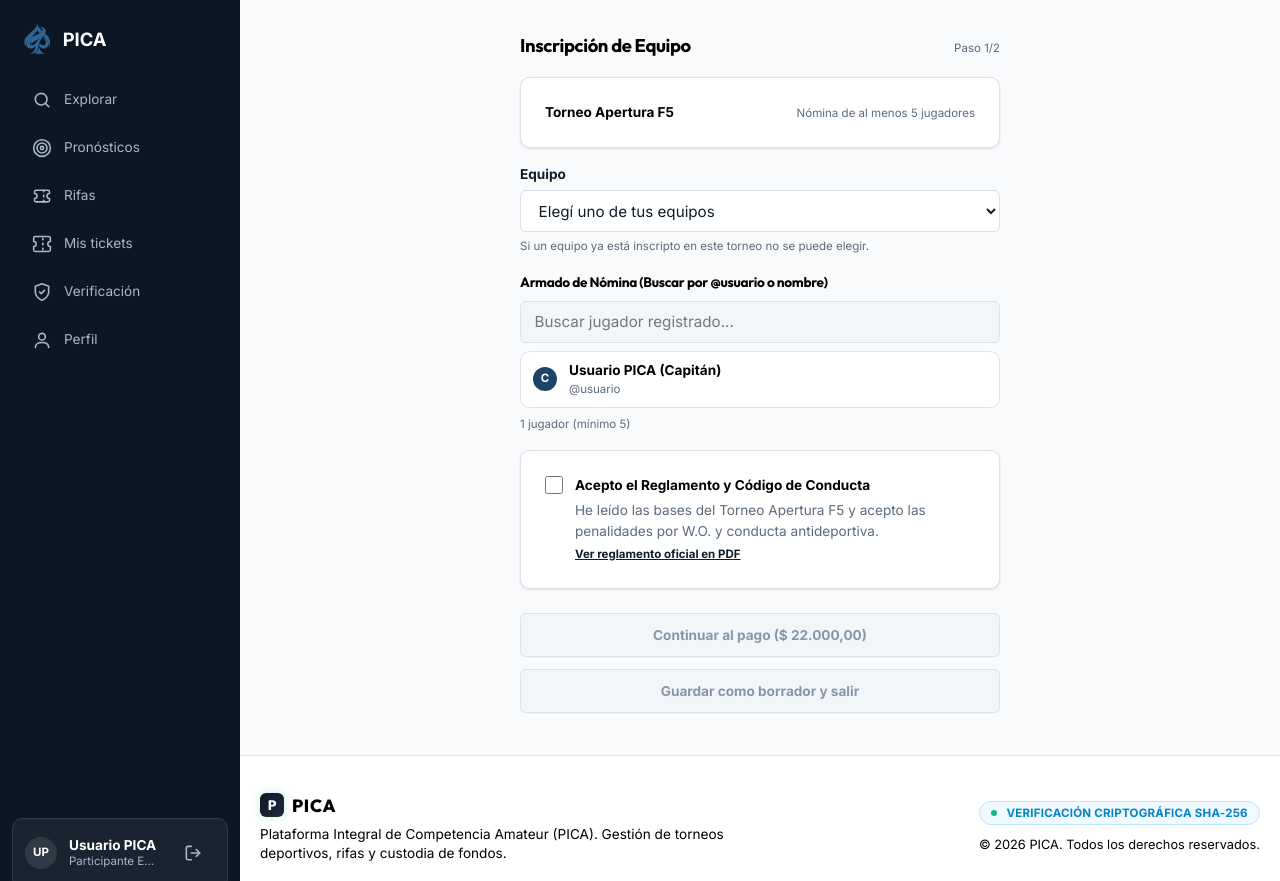
Test: paso 1: equipo y nómina (alta) › suma un jugador a la nómina con un toque, lo cuenta y no deja sumarlo dos veces
Type "lucas" into the search field labelled "Buscar jugador registrado...".
click(760, 322); type("lucas")  # box [520,301,1000,343]
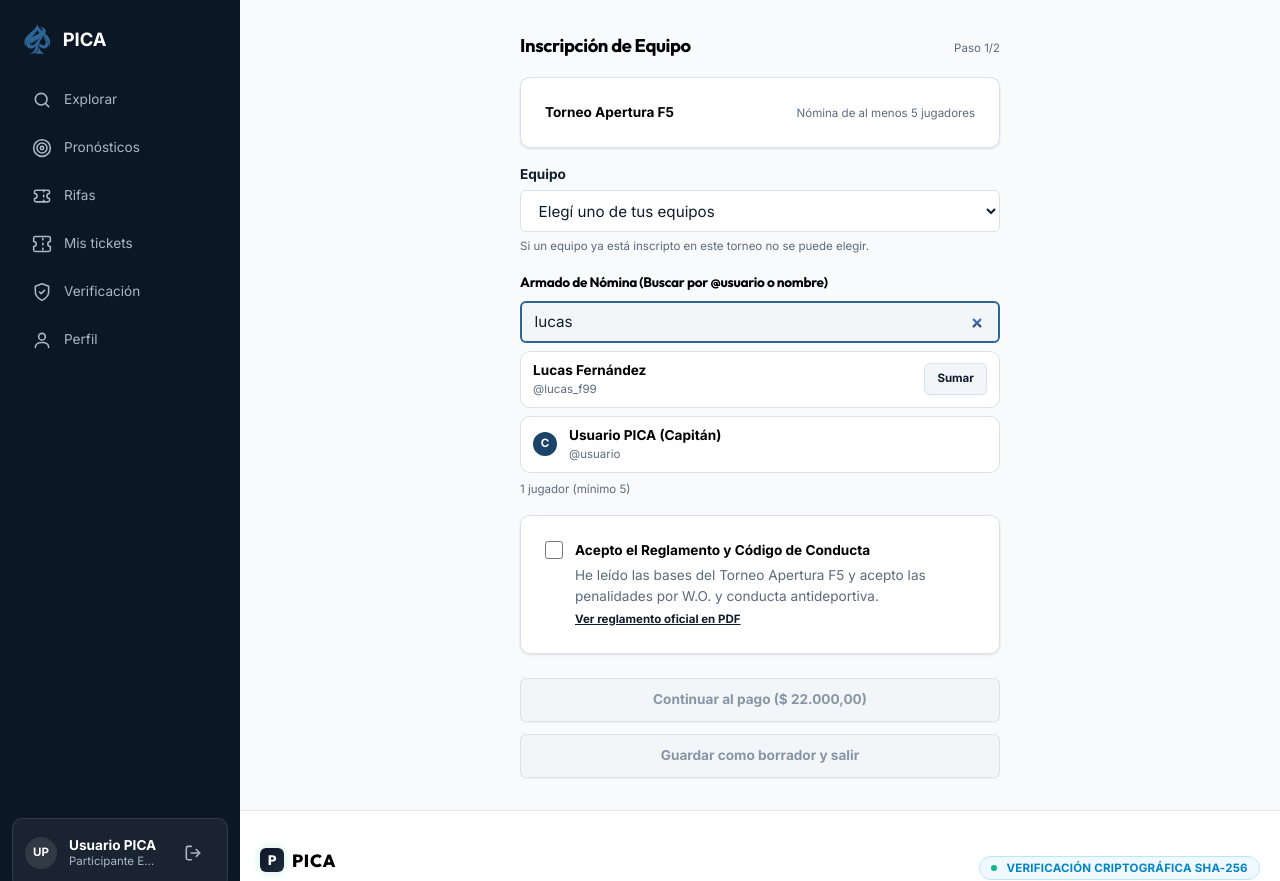
Click the button with aria-label "Sumar a Lucas Fernández".
click(956, 379)  # box [924,363,987,395]
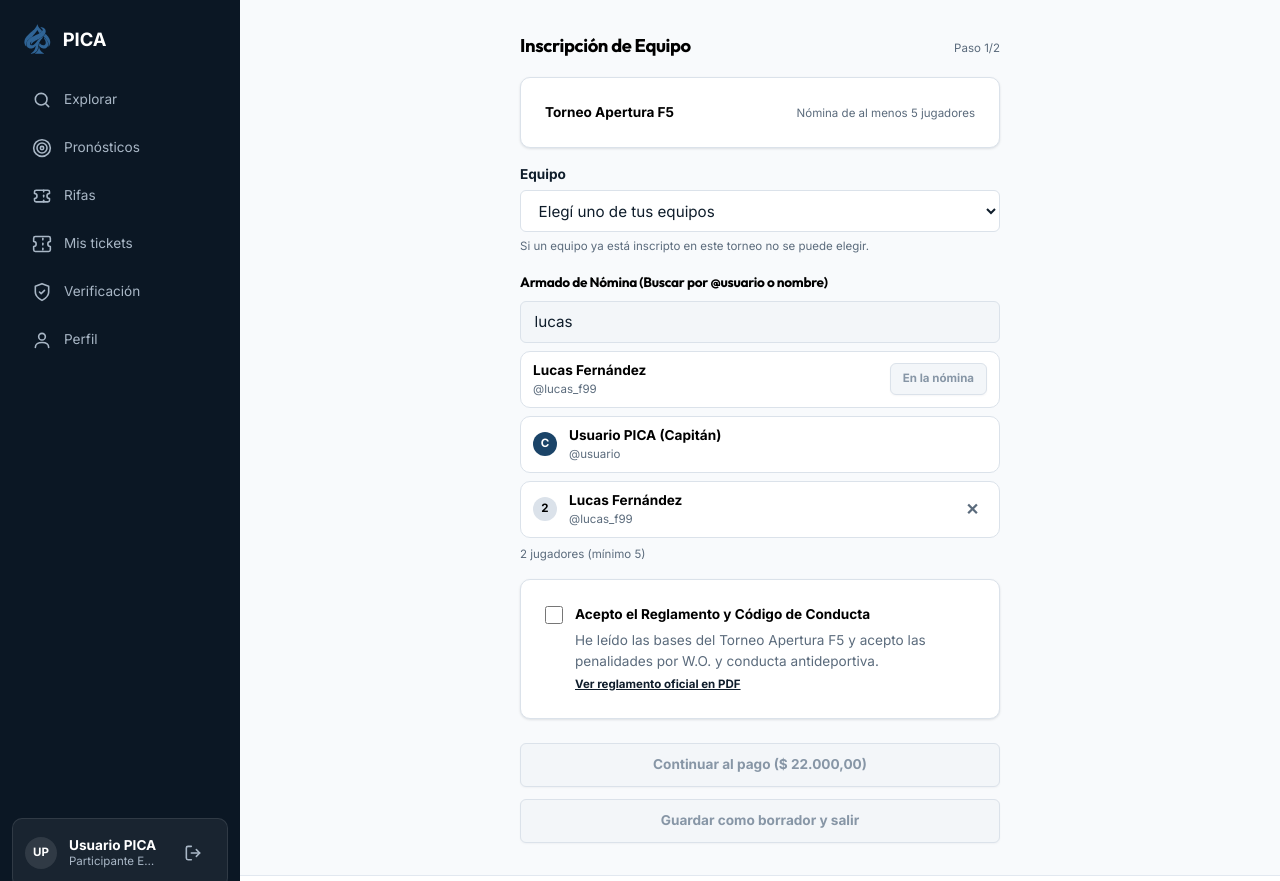
Expected: the text "Lucas Fernández" below "(Capitán)" is shown, [569,492,682,508]
Expected: the text "@lucas_f99" below "(Capitán)" is shown, [569,512,633,526]
Expected: the text "2 jugadores (mínimo 5)" is shown, [520,547,646,561]
